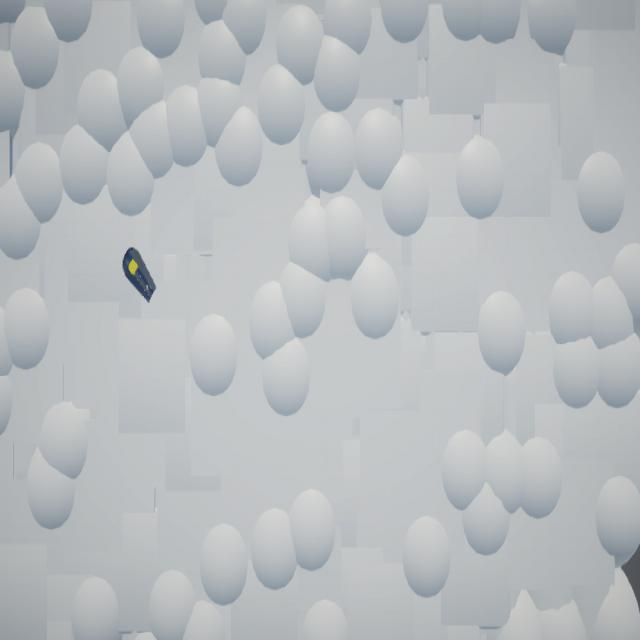handle_folk: (124, 247, 158, 304)
